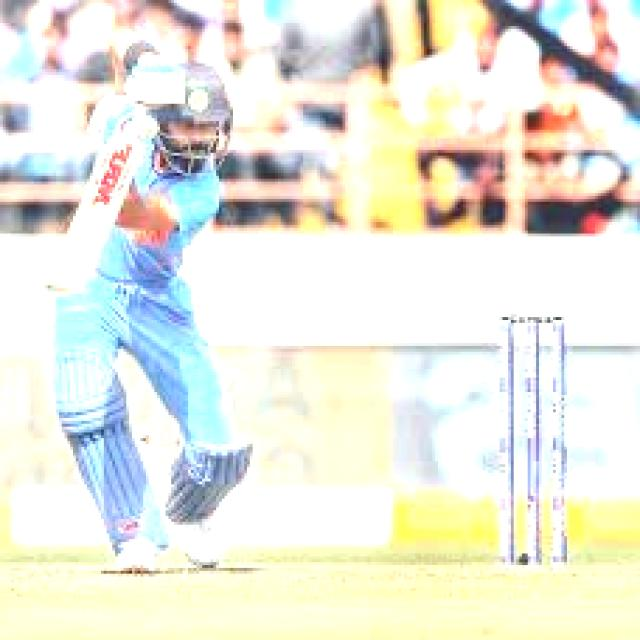toe: (35, 264, 95, 302)
